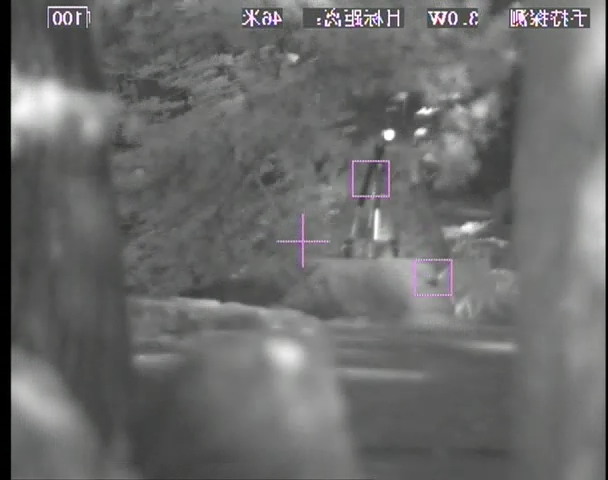my: (381, 127, 396, 142)
